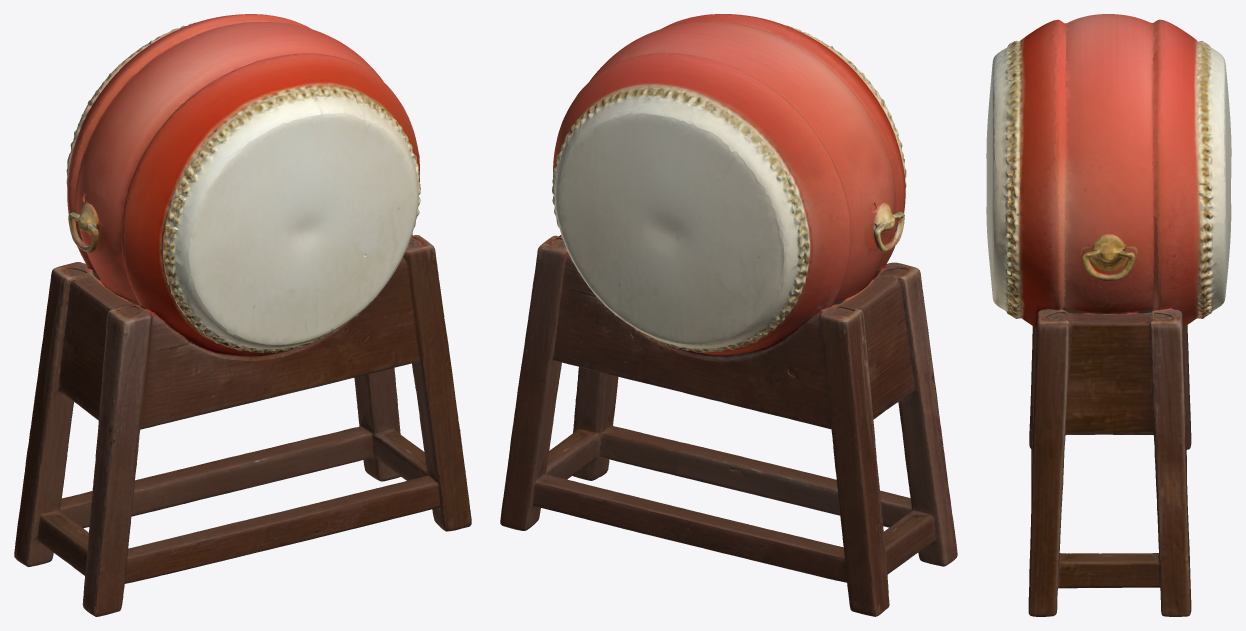
The model's file is temple-drum.glb.
3 renders of one model, left to right at view 1: azimuth 30°, elevation 25°; view 2: azimuth 150°, elevation 25°; view 3: azimuth 270°, elevation 25°, orthographic. The views are drawn at different scales.
Parts seen in each view (by area): view 1: geometry_0; view 2: geometry_0; view 3: geometry_0.
Boxes of the visible parts, bbox=[...] form: geometry_0: bbox=[14, 14, 471, 616]; geometry_0: bbox=[500, 14, 957, 616]; geometry_0: bbox=[986, 14, 1231, 616].
Size of the model in its own units: 0.6 by 0.7685 by 0.3449.
1 material, 1 textured.
